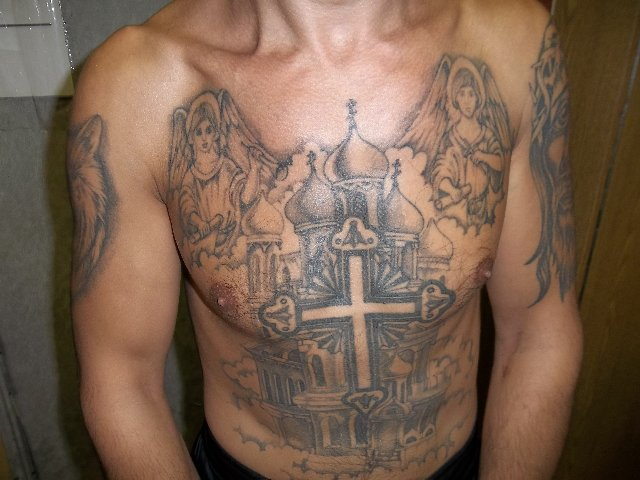tatu1_angel: (403, 31, 536, 225), (168, 86, 272, 256)
tatu9_krest: (300, 256, 414, 381)
